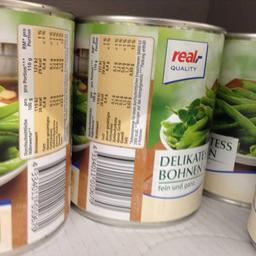beans: (73, 8, 217, 229)
